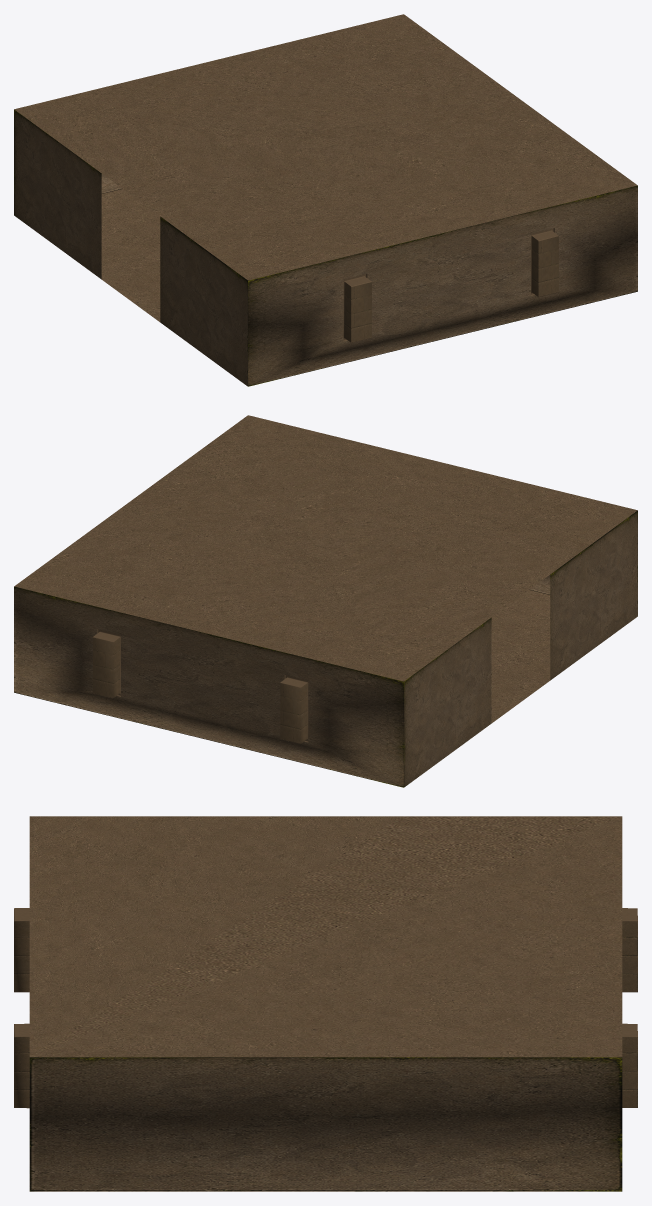
File: temple_innertop_elevator.fbx
3 views of the same model, one above another, from view 1: azimuth 30°, elevation 25°; view 2: azimuth 150°, elevation 25°; view 3: azimuth 270°, elevation 25° (orthographic). The views are drawn at different scales.
Parts seen in each view (by area): view 1: innertop.001; view 2: innertop.001; view 3: innertop.001.
Boxes of the visible parts, x1=… form: innertop.001: x1=14, y1=14, x2=637, y2=386; innertop.001: x1=14, y1=415, x2=637, y2=787; innertop.001: x1=14, y1=816, x2=637, y2=1191.
Size of the model in its own units: 140 by 36.53 by 154.
